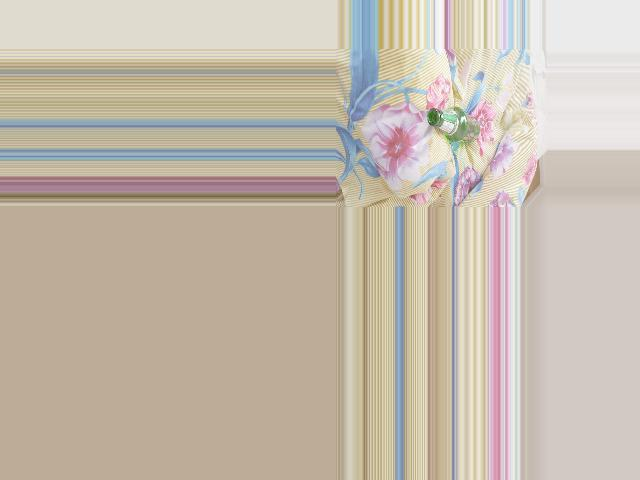beer: (427, 107, 479, 141)
